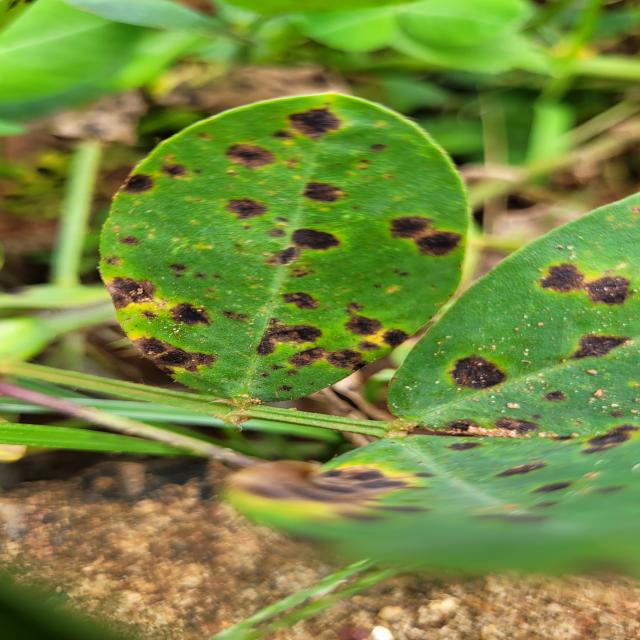Ground nut_tikka leaf spot: (102, 88, 472, 417)
